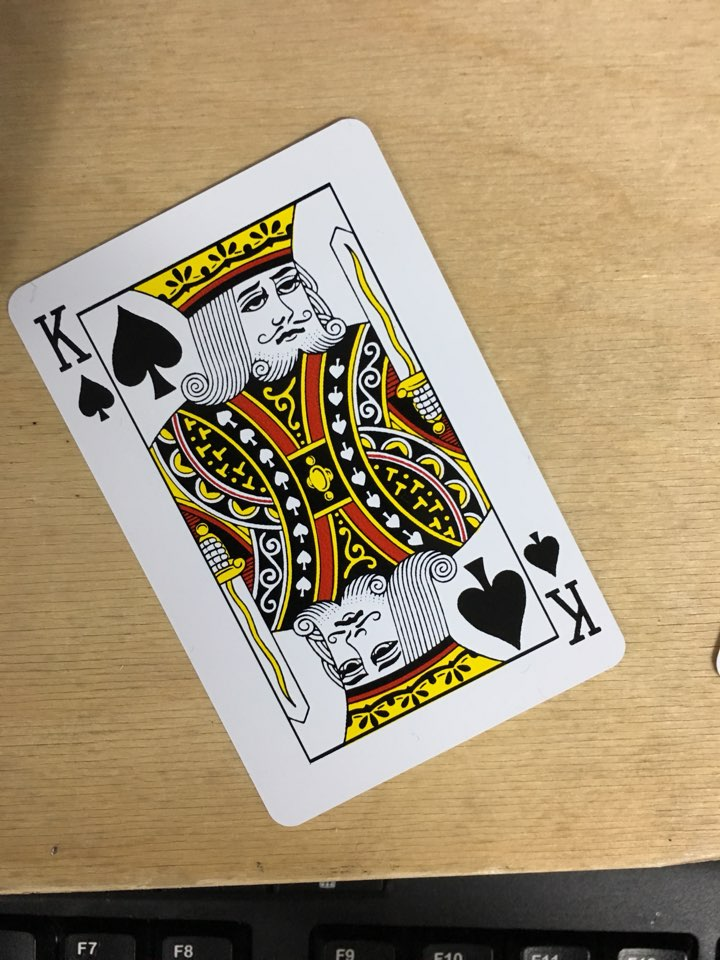king: (1, 78, 647, 846)
